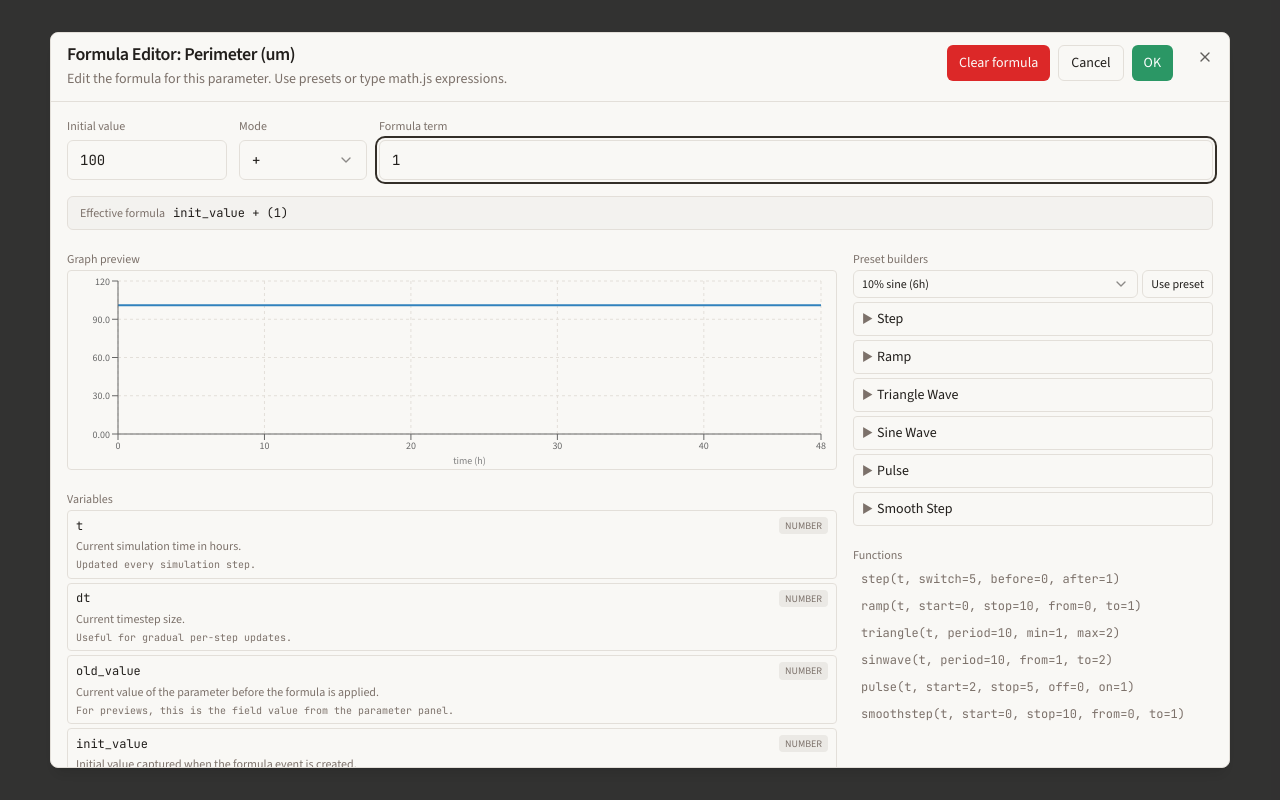
FormulaEditorDialog › uses the selected preset by replacing the current formula
The width and height of the screenshot is (1280, 800).
Click the button "Use preset" at (1178, 284), box [1142,270,1213,298]
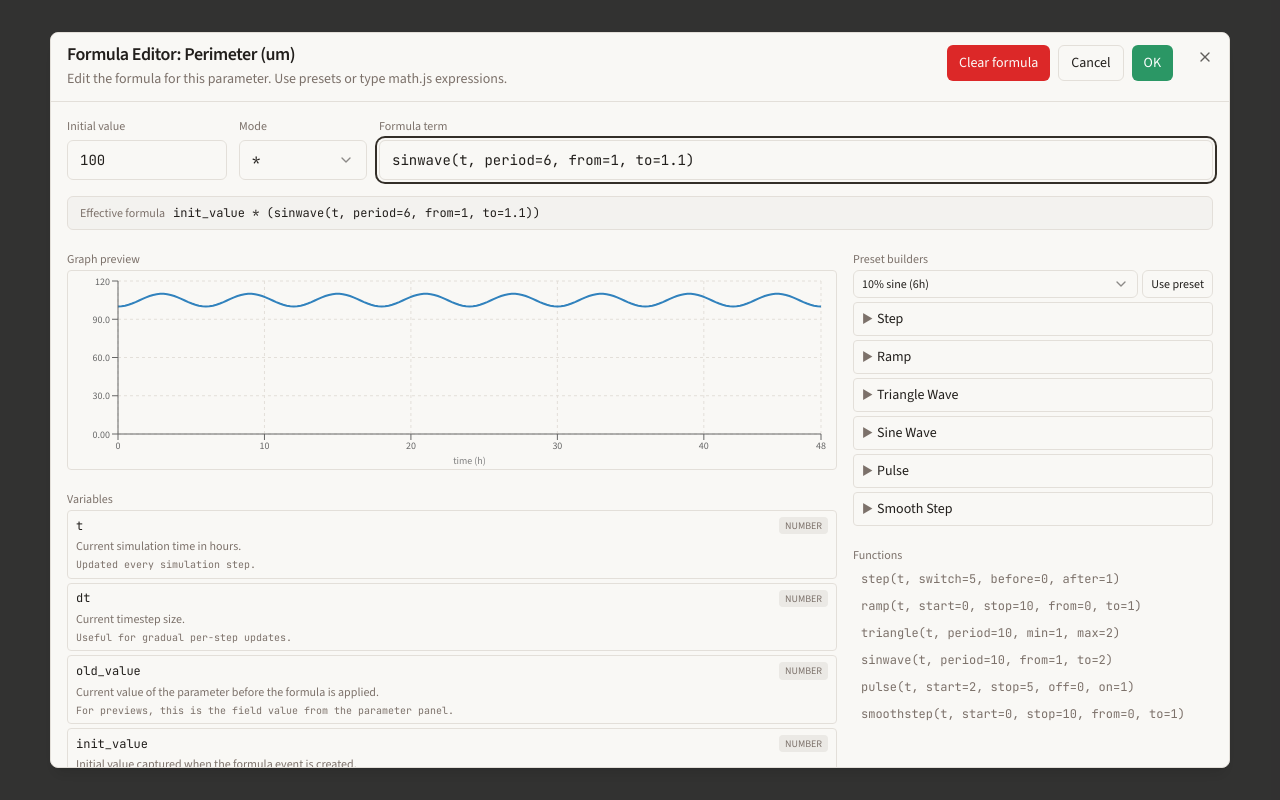
Expected: the field labelled "Formula term" holds "sinwave(t, period=6, from=1, to=1.1)", [379,140,1213,180]
Expected: the text "init_value * (sinwave(t, period=6, from=1, to=1.1))" is shown, [173,205,540,221]
